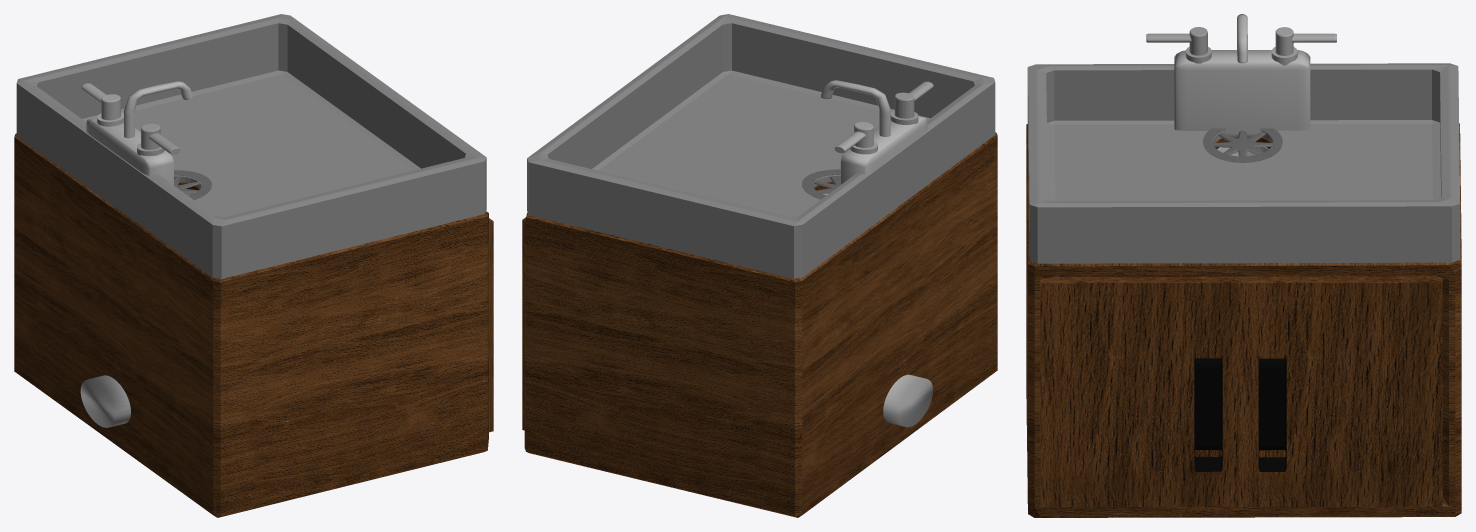
The model's file is COFFEE_SINK.glb.
3 renders of one model, left to right at view 1: azimuth 30°, elevation 25°; view 2: azimuth 150°, elevation 25°; view 3: azimuth 270°, elevation 25°, orthographic. The views are drawn at different scales.
Parts seen in each view (by area): view 1: BODY, SINK, TAP, PIPE, LEFT DOOR, RIGHT KEY, LEFT KEY, DRAIN FRANGE; view 2: BODY, SINK, TAP, PIPE, LEFT KEY, RIGHT KEY, DRAIN FRANGE, RIGHT DOOR; view 3: SINK, RIGHT DOOR, LEFT DOOR, BODY, TAP, DRAIN FRANGE, RIGHT KEY, LEFT KEY.
Boxes of the visible parts, <box> form: BODY: <box>14,133,488,517</box>; SINK: <box>16,14,486,278</box>; TAP: <box>86,81,193,185</box>; PIPE: <box>80,193,193,427</box>; LEFT DOOR: <box>489,218,493,432</box>; RIGHT KEY: <box>81,83,123,126</box>; LEFT KEY: <box>137,123,180,156</box>; DRAIN FRANGE: <box>174,170,211,199</box>; BODY: <box>524,132,997,517</box>; SINK: <box>527,14,995,278</box>; TAP: <box>820,80,927,184</box>; PIPE: <box>822,193,932,427</box>; LEFT KEY: <box>890,81,933,124</box>; RIGHT KEY: <box>834,122,877,154</box>; DRAIN FRANGE: <box>802,169,840,199</box>; RIGHT DOOR: <box>522,217,525,430</box>; SINK: <box>1027,63,1460,263</box>; RIGHT DOOR: <box>1238,276,1442,507</box>; LEFT DOOR: <box>1040,276,1244,507</box>; BODY: <box>1026,123,1461,517</box>; TAP: <box>1174,14,1310,138</box>; DRAIN FRANGE: <box>1203,128,1282,162</box>; RIGHT KEY: <box>1271,27,1336,65</box>; LEFT KEY: <box>1146,27,1211,63</box>.
Size of the model in its own units: 0.9914 by 1.01 by 1.06.
Materials: 11 (3 with a texture image).
